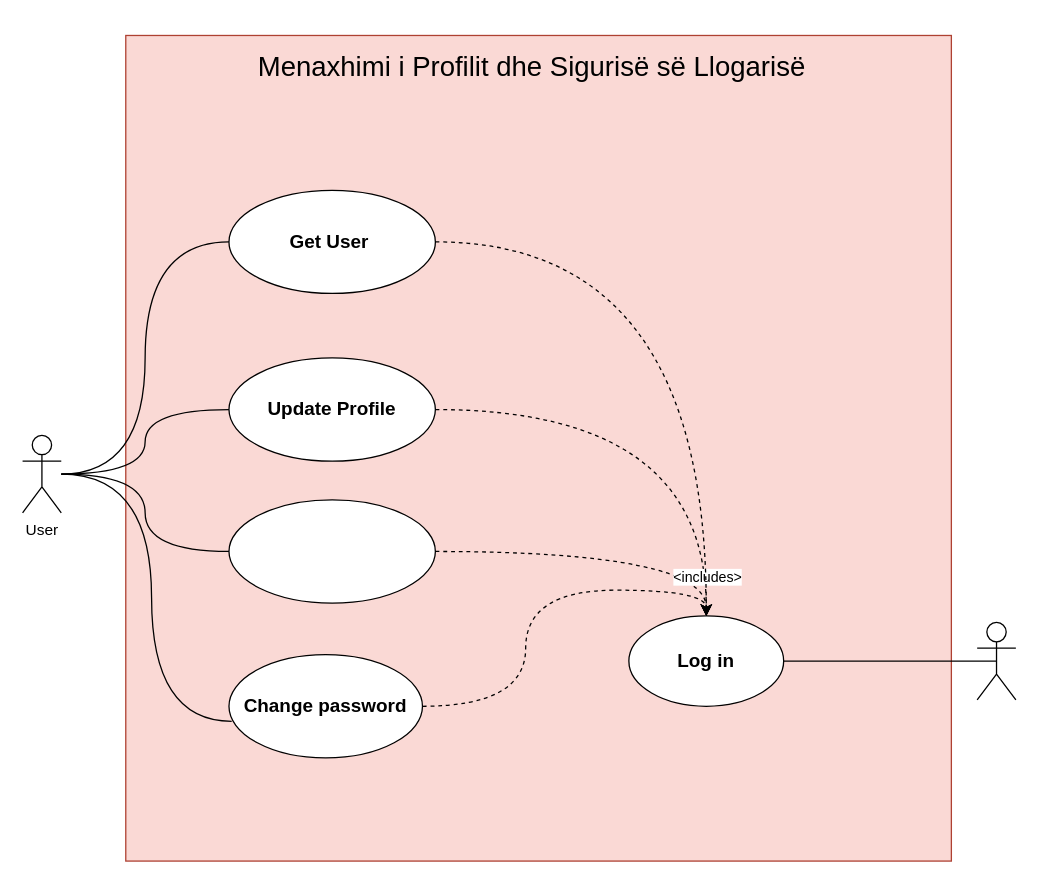
Some shapes in this 1057 by 884 pixel diagram are drawn without their labels. The shapes that lost their labels are listed below. From the top down, each one's centre as x and y in pixels, then its label:
[331,551]: Delete User
[996,660]: Db System
